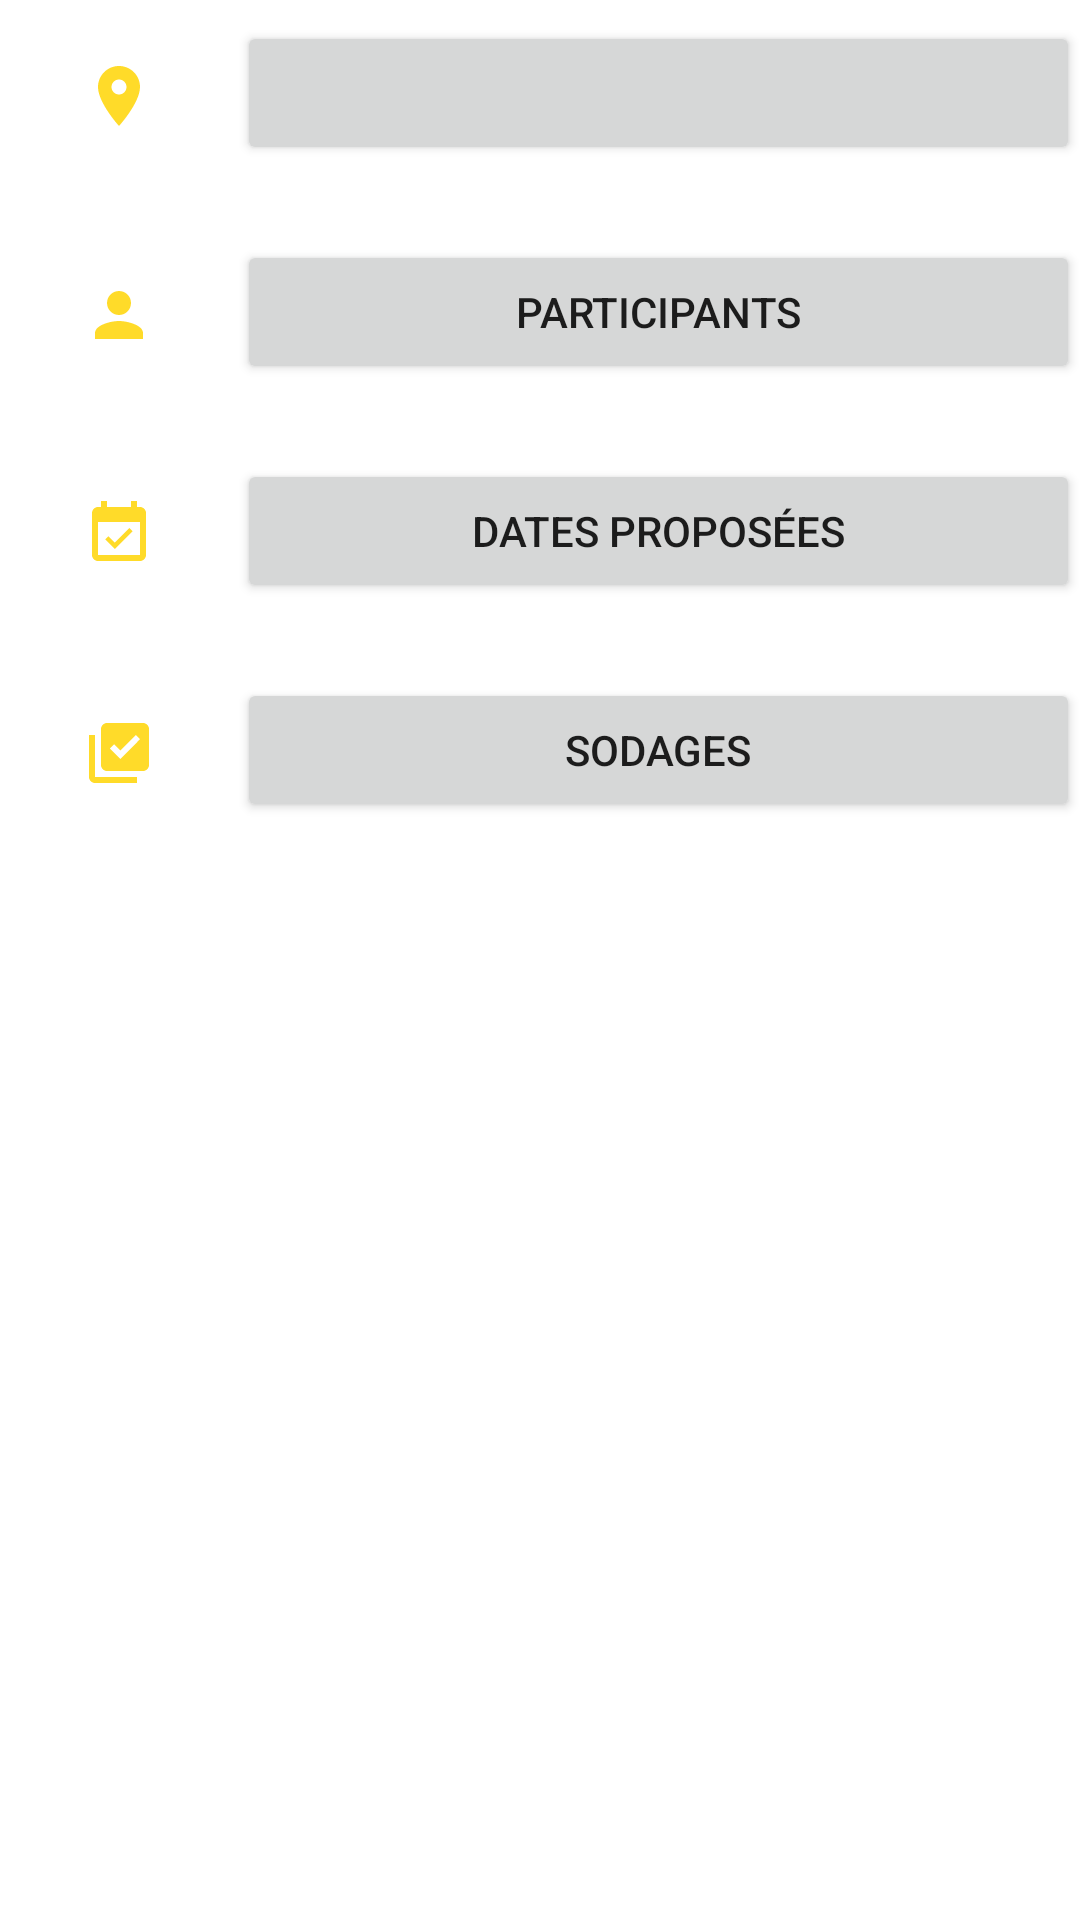

Screen size 1080px x 1920px. Icon name, then its center in pixels as point (x, y):
location: point (119, 96)
